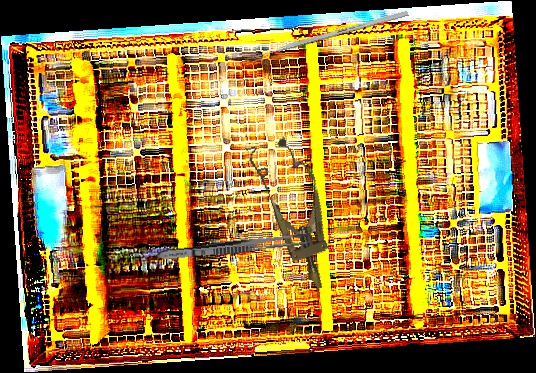Dressing Forceps: (155, 230, 312, 264)
Pusher: (244, 9, 409, 63)
Speculum: (243, 130, 348, 298)
